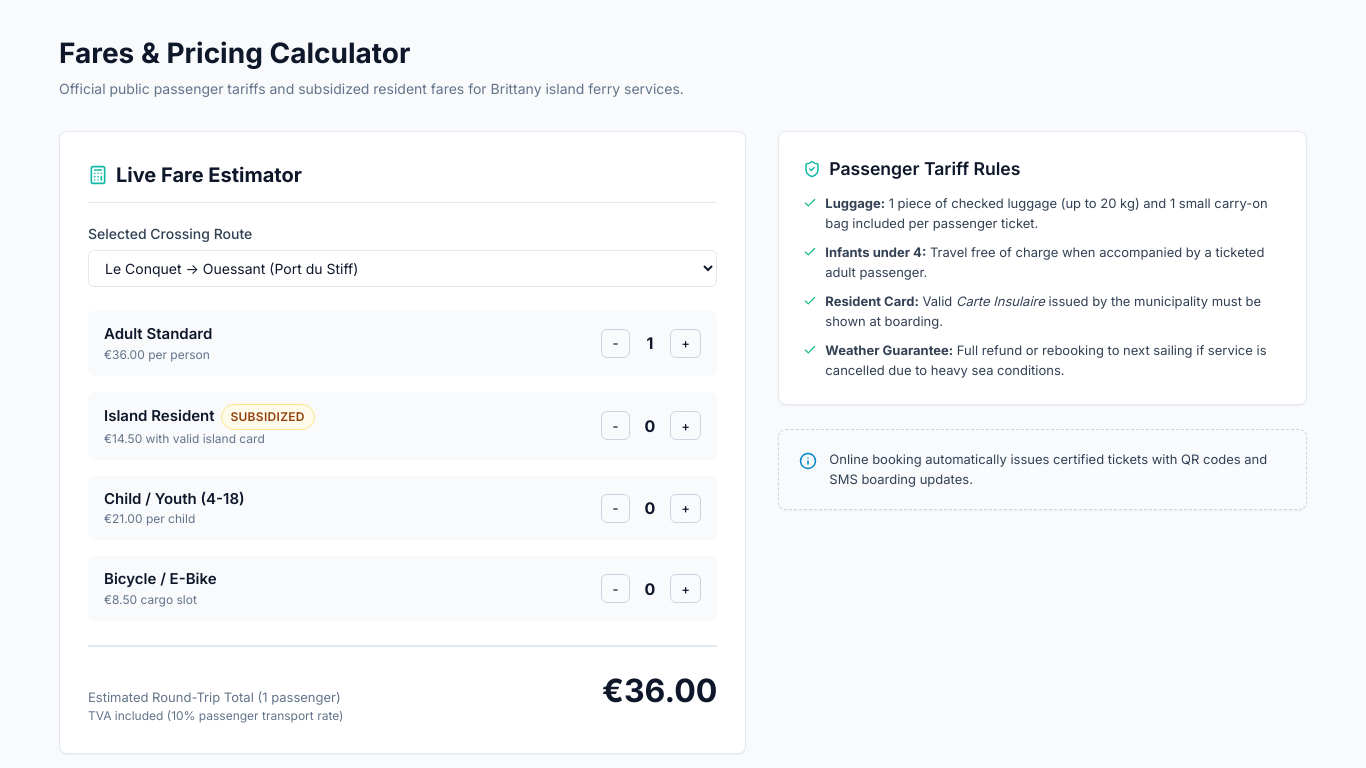
Test: FaresPage Component › updates total when increasing passenger quantities
This screenshot has width=1366, height=768.
Click the button named "increase adult count" at (686, 343), box [670,329,701,358]
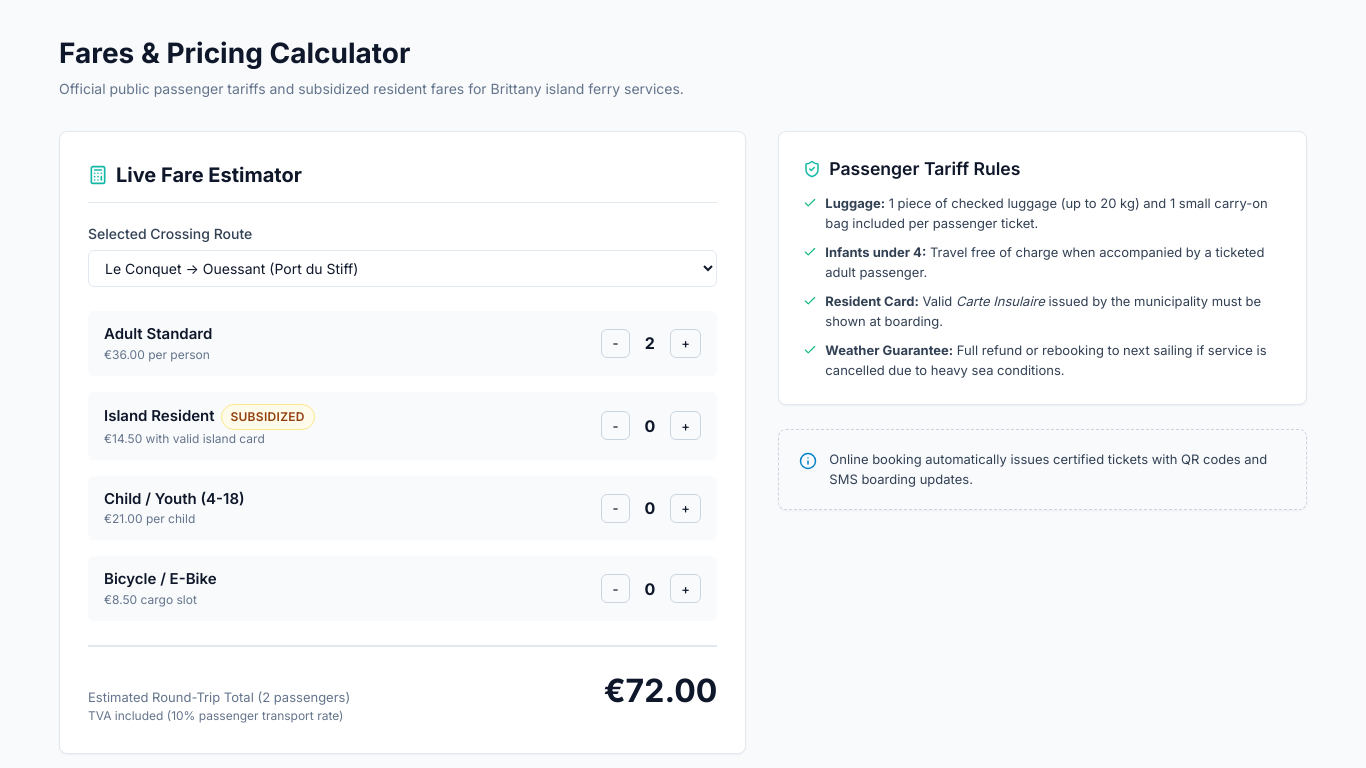
Expected: the text "€72.00" is shown, [604,667,717,715]
Click the button named "increase bike count" at (686, 589), box [670,574,701,603]
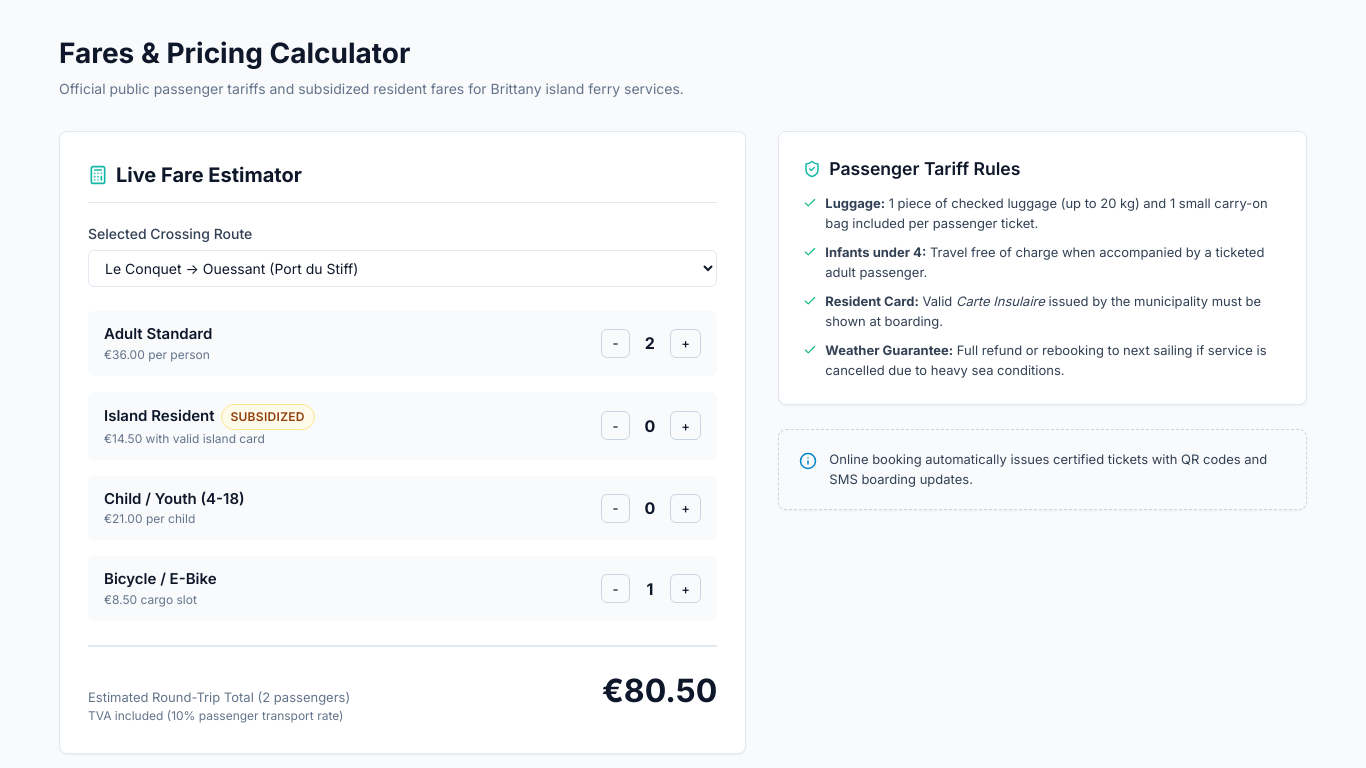
Expected: the text "€80.50" is shown, [602,667,717,715]
